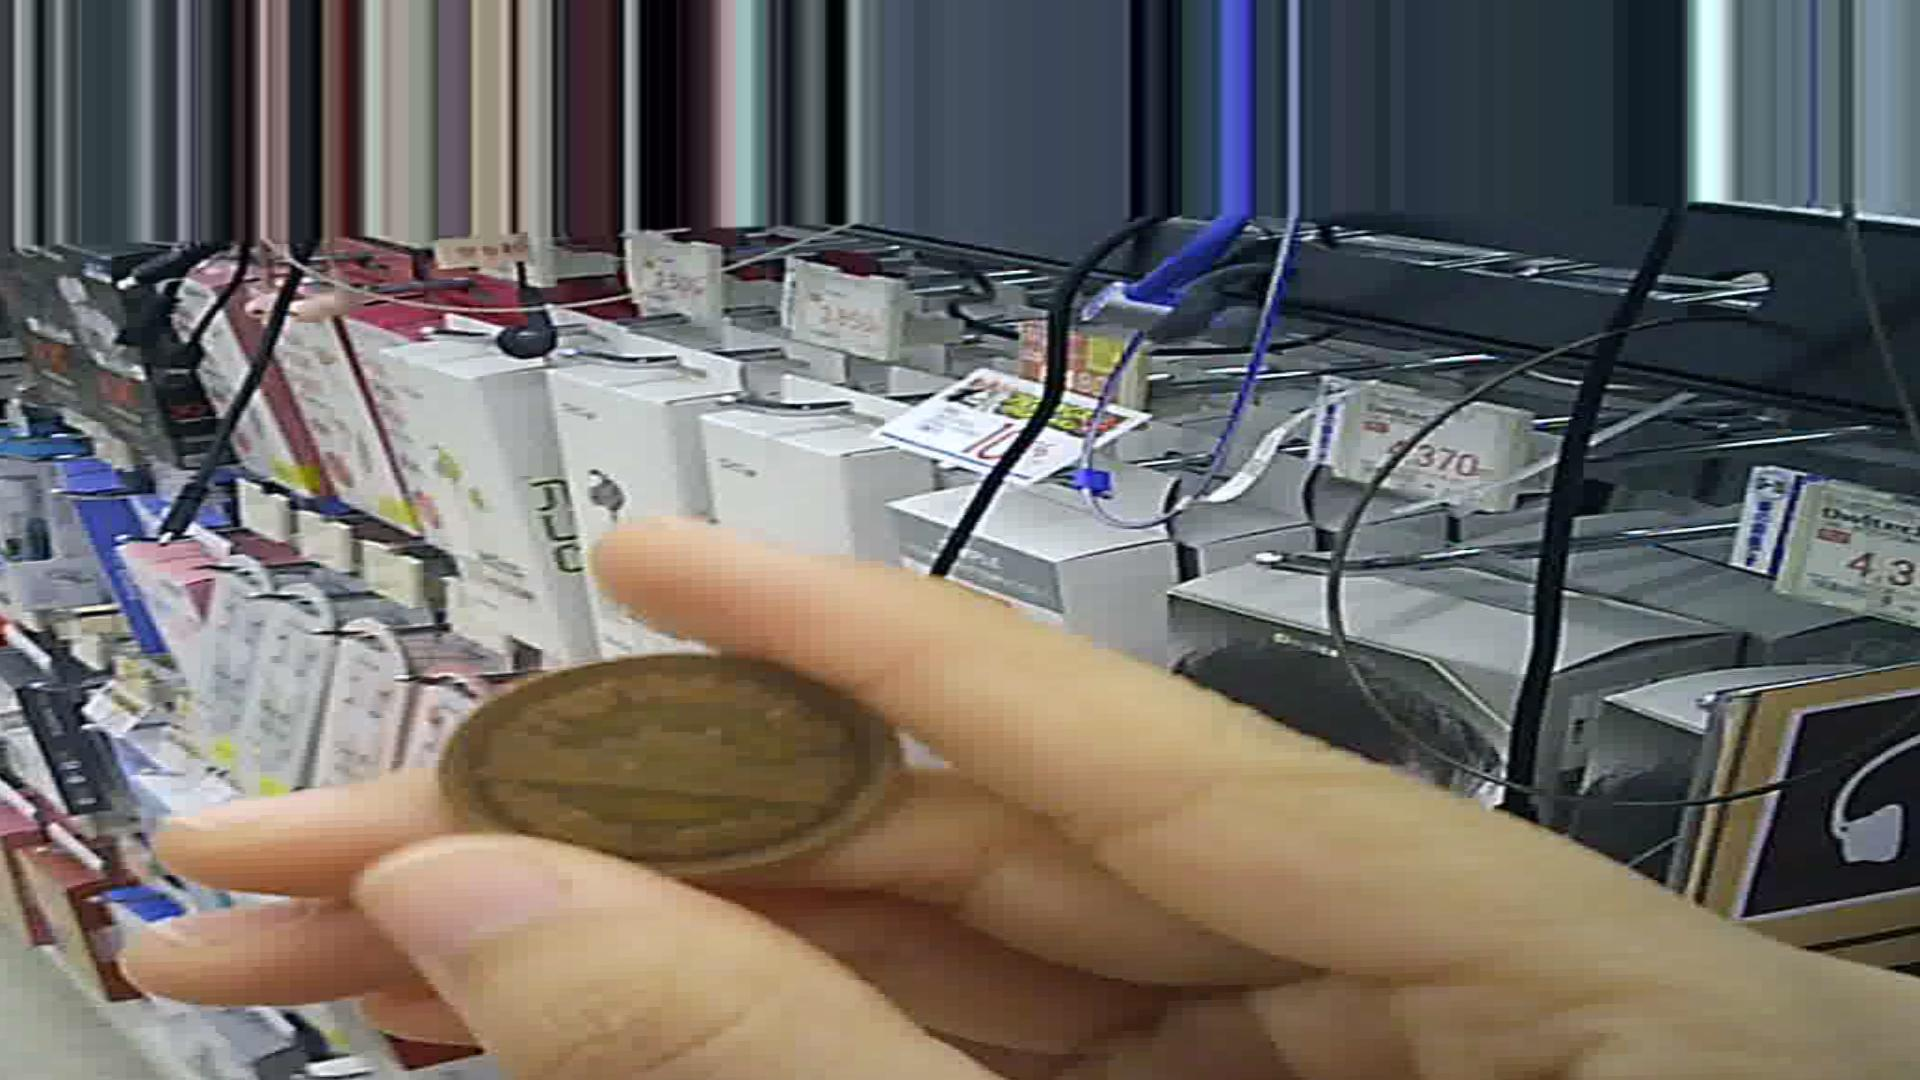10 Yen: (448, 632, 893, 899)
